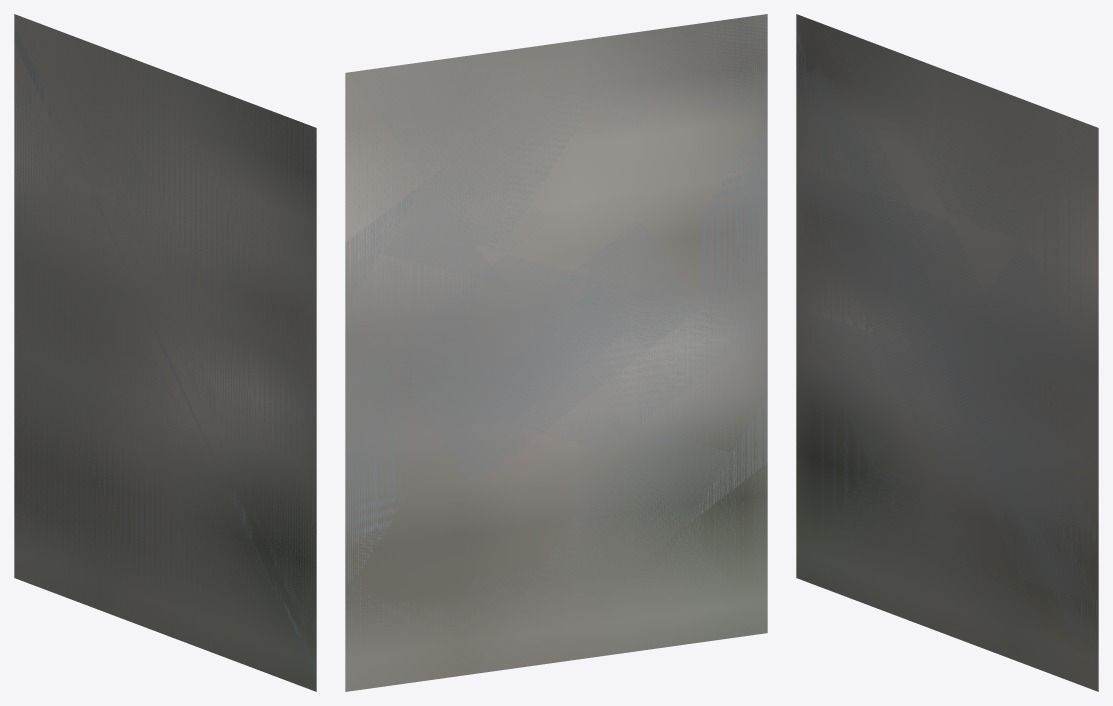
The model's file is 西庸城堡309.dae.
3 views of the same model, side by side, from view 1: azimuth 90°, elevation 25°; view 2: azimuth 150°, elevation 25°; view 3: azimuth 270°, elevation 25° (orthographic). The views are drawn at different scales.
Visible parts, largest first — view 1: SketchUp; view 2: SketchUp; view 3: SketchUp.
Part boxes in pixels (x1=…): SketchUp: x1=14, y1=14, x2=316, y2=691; SketchUp: x1=345, y1=14, x2=767, y2=691; SketchUp: x1=796, y1=14, x2=1098, y2=691.
Bounding box in the file's own units: 13.64 × 15.29 × 31.5.
